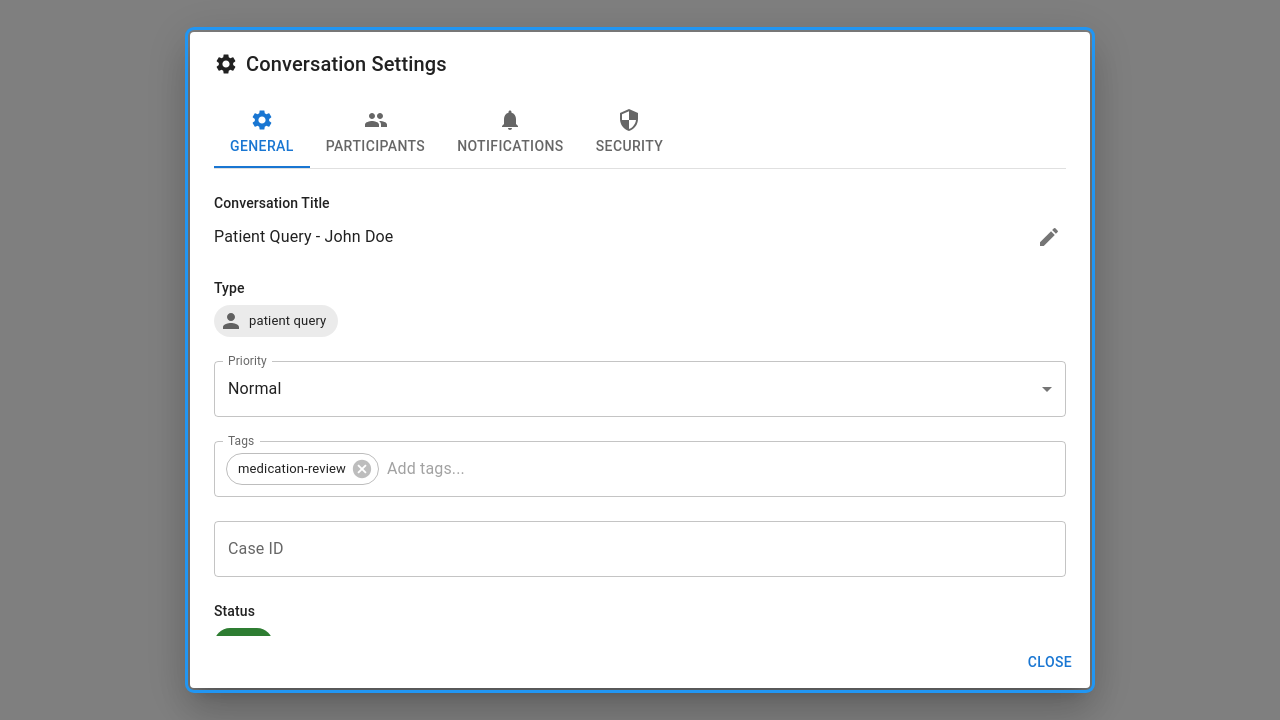
ConversationSettings › displays participants in participants tab
The width and height of the screenshot is (1280, 720).
Click the tab "Participants".
click(376, 132)  # box [310,96,441,168]
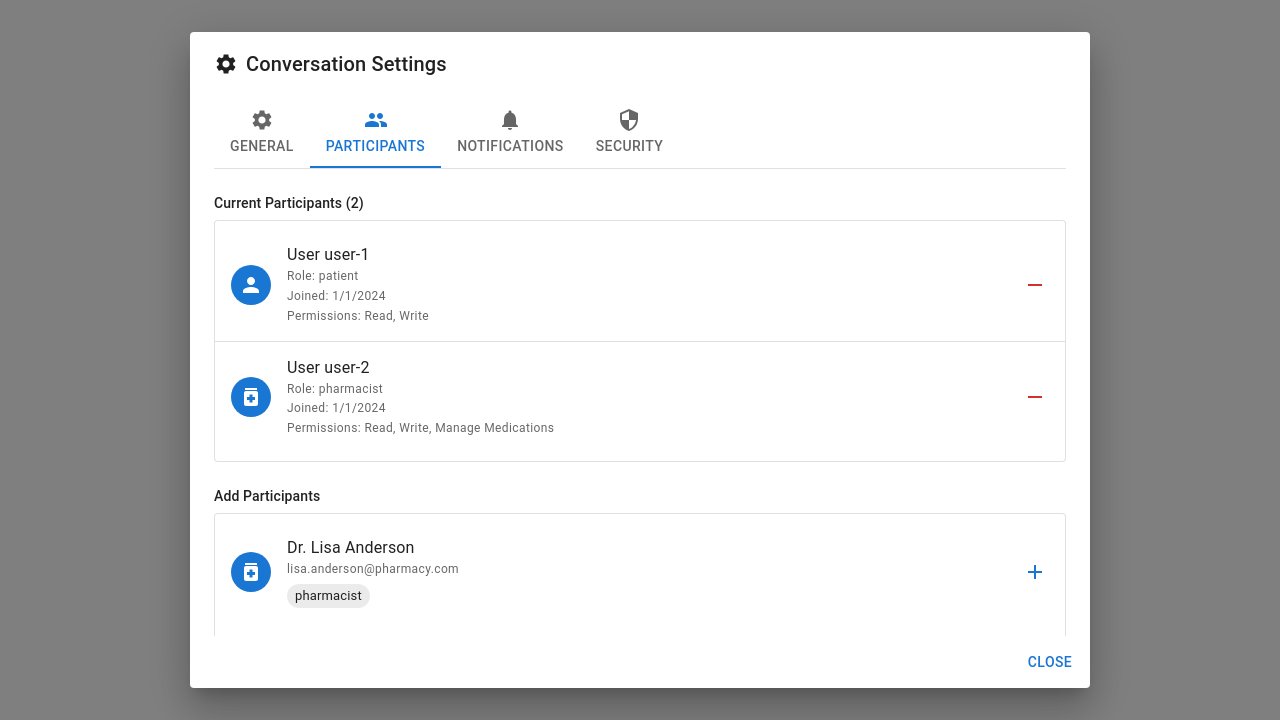
Expected: the heading "Current Participants (2)" is shown, [214,195,364,211]
Expected: the text "Role: patient" is shown, [287,269,359,283]
Expected: the text "Role: pharmacist" is shown, [287,382,383,396]
